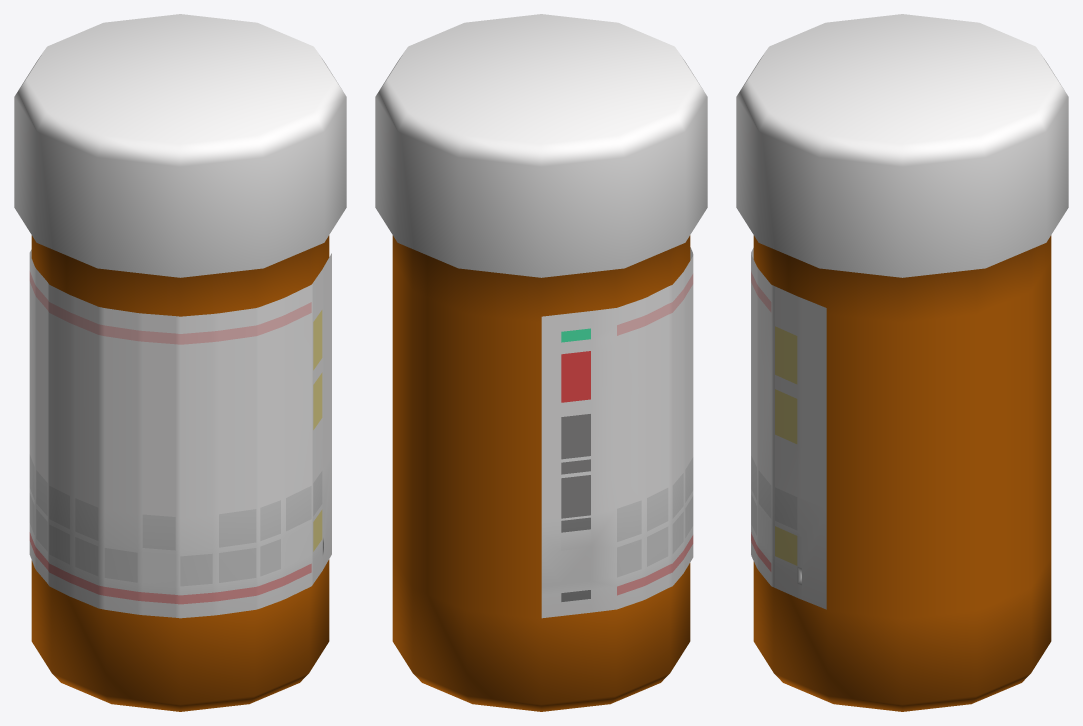
File: human-household-items-pill-bottle_v1.glb
3 renders of one model, left to right at view 1: azimuth 30°, elevation 25°; view 2: azimuth 150°, elevation 25°; view 3: azimuth 270°, elevation 25°, orthographic.
Parts seen in each view (by area): view 1: Pill Bottle.001, Pill Bottle; view 2: Pill Bottle.001, Pill Bottle; view 3: Pill Bottle, Pill Bottle.001.
Part boxes in pixels (x1,y1,x2,y2): Pill Bottle.001: (14, 14, 346, 618); Pill Bottle: (31, 235, 329, 711); Pill Bottle.001: (375, 14, 707, 618); Pill Bottle: (392, 235, 690, 711); Pill Bottle: (753, 235, 1051, 711); Pill Bottle.001: (736, 14, 1068, 609).
Bounding box in the file's own units: 0.0524 × 0.1 × 0.0524.
